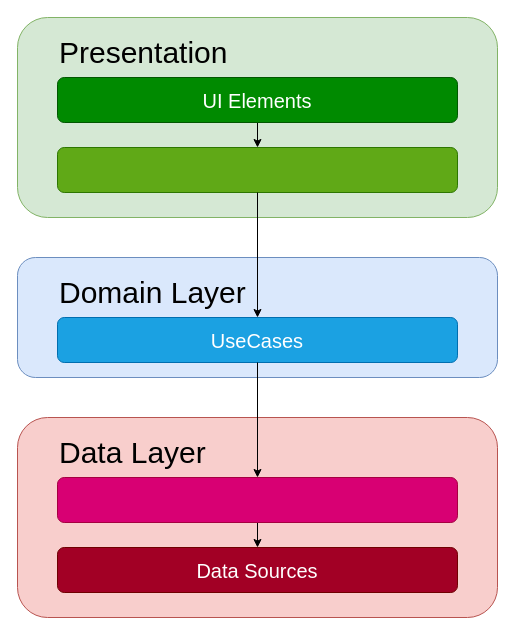
Some shapes in this 515 by 635 pixel diagram are drawn without their labels. Here are the shapes that lost their labels. From the top down, the box of each, then its label:
(56, 146, 458, 192): ViewModels
(56, 476, 458, 522): Repositories
